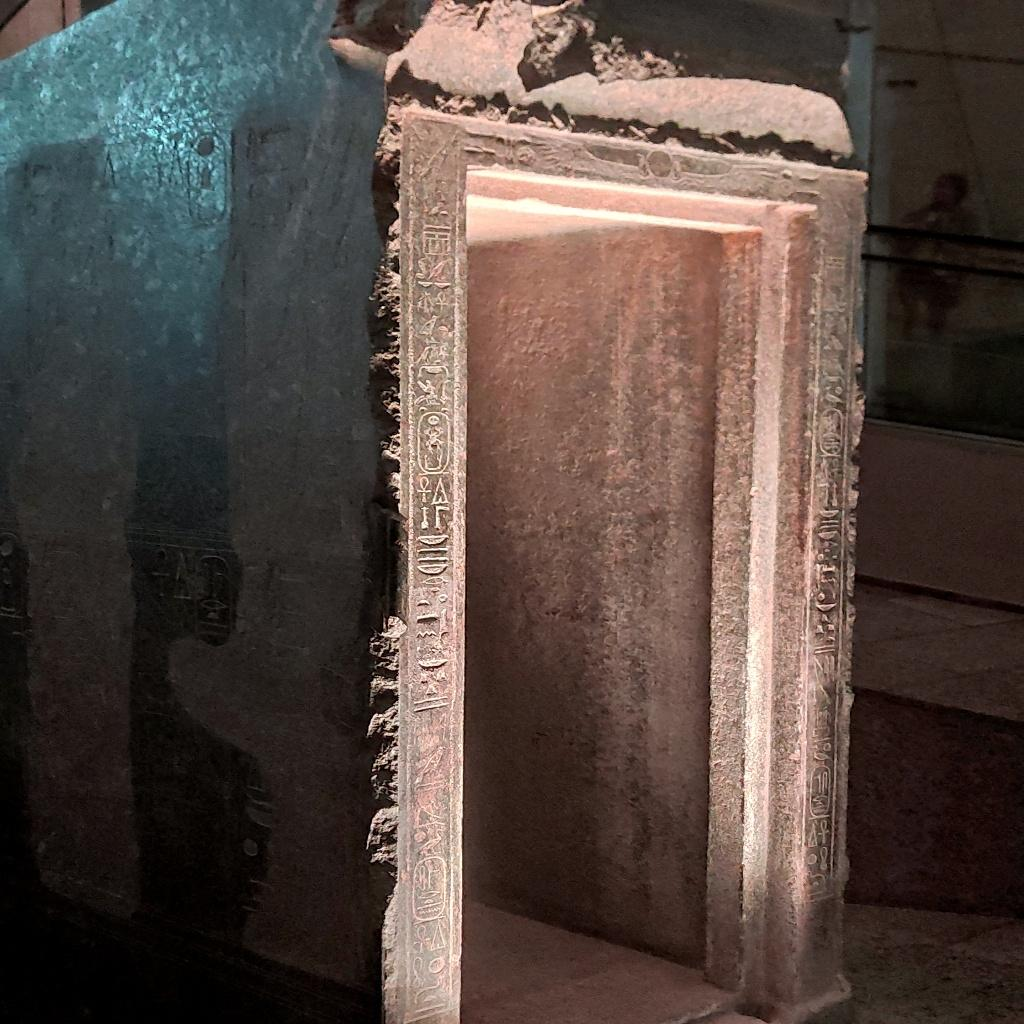Naos of Senwosert I: (0, 2, 857, 1020)
